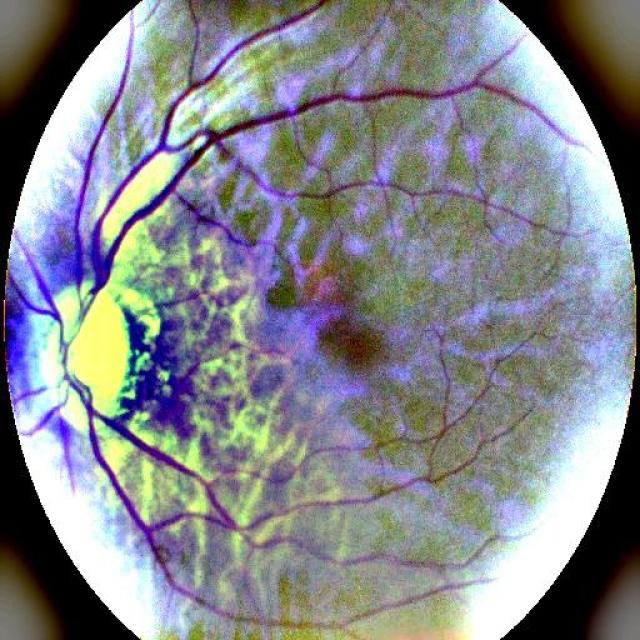Macula: (320, 318, 382, 369)
Nerves: (47, 25, 543, 635)
Optic Disk: (69, 288, 130, 415)
